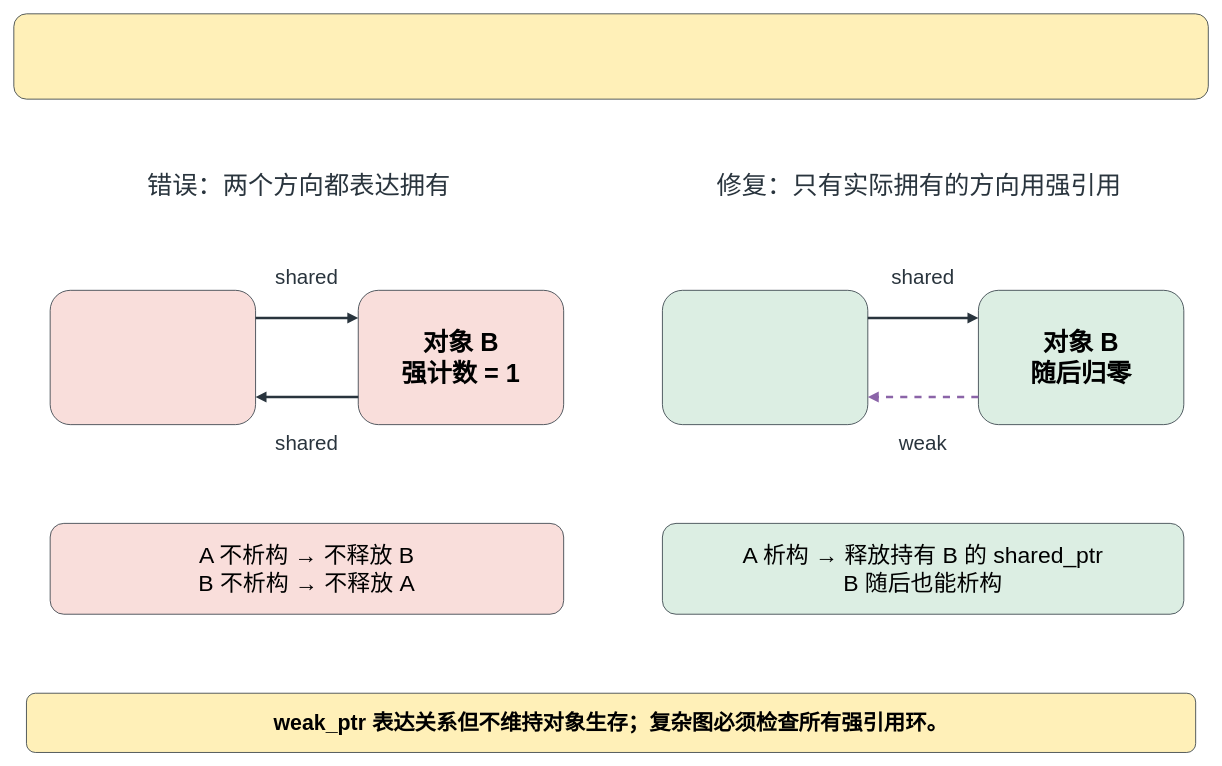
Image size: 1222x766. Some labels were removed from this diagram. Each missing label, with the centre of its shape:
"04｜环里还有所有者，引用计数就不会归零" belongs at point (610, 56).
"对象 A 可先归零" belongs at point (765, 357).
"对象 A 强计数 = 1" belongs at point (152, 357).
